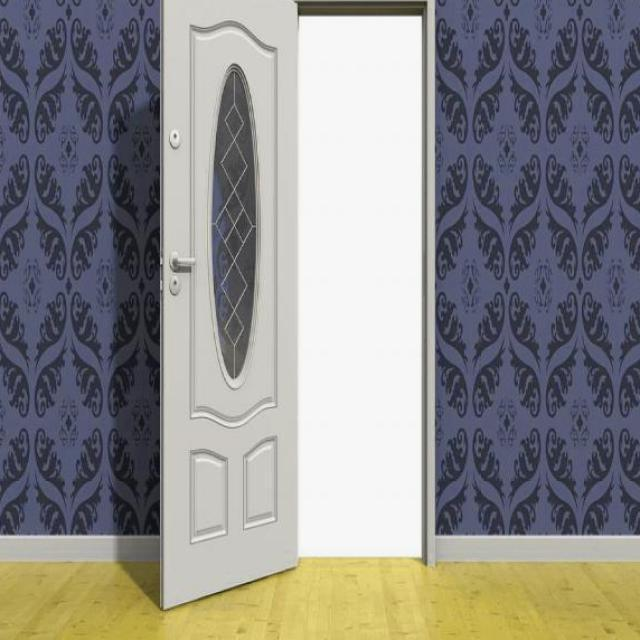door: (158, 0, 299, 610)
